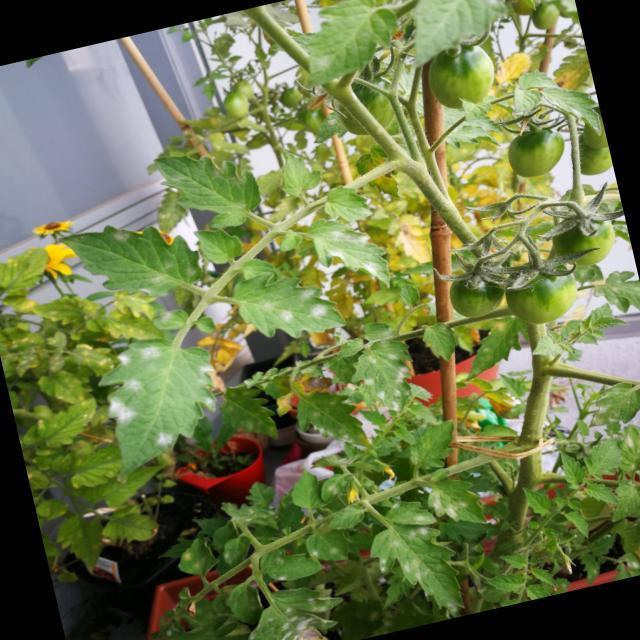Healthy Leaf: (193, 222, 244, 268), (554, 446, 588, 489), (583, 476, 617, 511), (522, 482, 554, 516), (564, 508, 594, 542), (396, 282, 422, 310)
Mosaic Virus: (97, 334, 225, 465), (378, 519, 467, 624), (106, 217, 196, 294), (242, 266, 330, 332), (312, 217, 388, 288), (361, 341, 417, 416), (253, 588, 329, 640), (581, 382, 640, 427), (429, 482, 478, 528), (392, 494, 434, 528), (266, 548, 305, 584), (304, 532, 347, 564), (217, 538, 250, 567), (180, 546, 210, 576)
